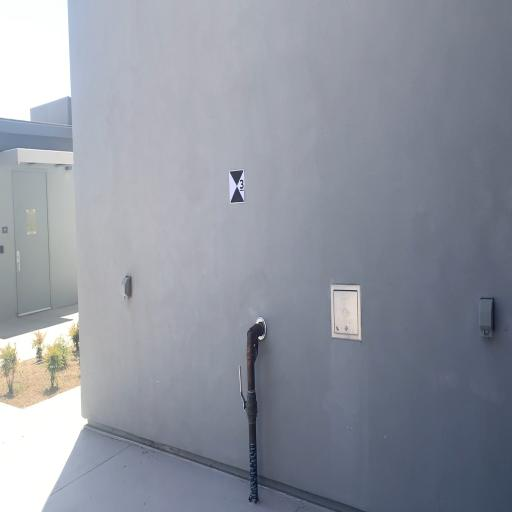target3: (229, 168, 245, 204)
